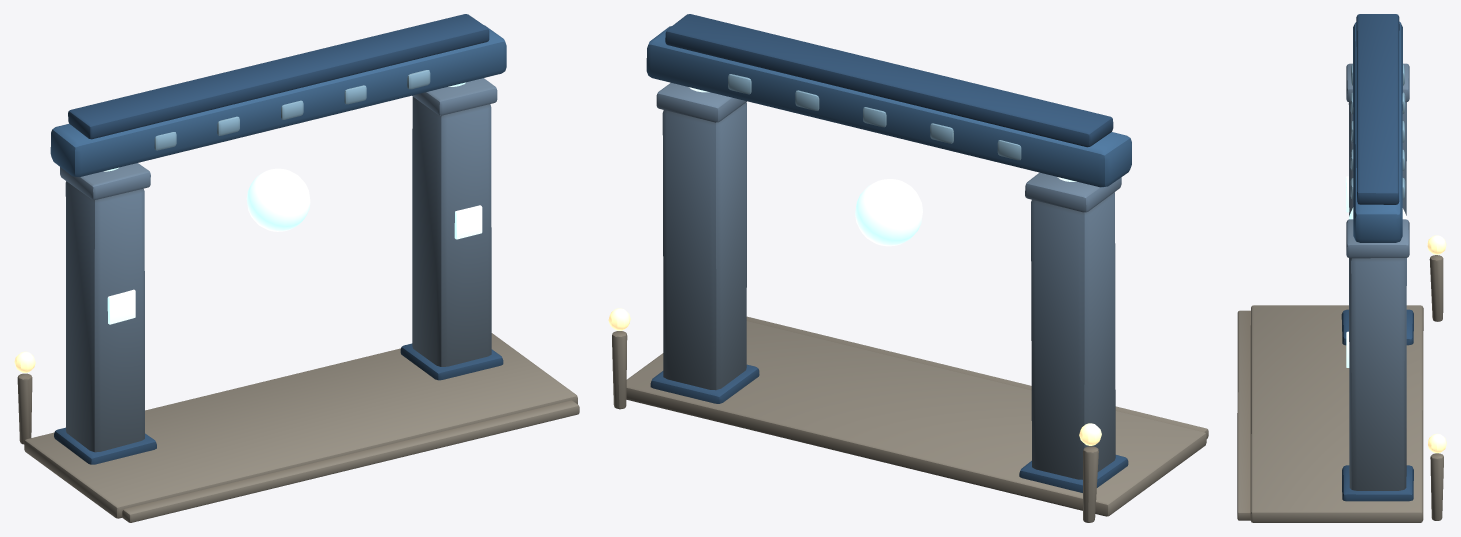
3 renders of one model, left to right at view 1: azimuth 30°, elevation 25°; view 2: azimuth 150°, elevation 25°; view 3: azimuth 270°, elevation 25°, orthographic. The views are drawn at different scales.
Visible parts, largest first — view 1: gate_2fe031e0; view 2: gate_2fe031e0; view 3: gate_2fe031e0.
Boxes of the visible parts, x1,y1,x2,y2 form: gate_2fe031e0: [14, 14, 579, 522]; gate_2fe031e0: [608, 14, 1208, 522]; gate_2fe031e0: [1237, 14, 1446, 522].
Bounding box in the file's own units: 5.98 × 4.27 × 2.55.
